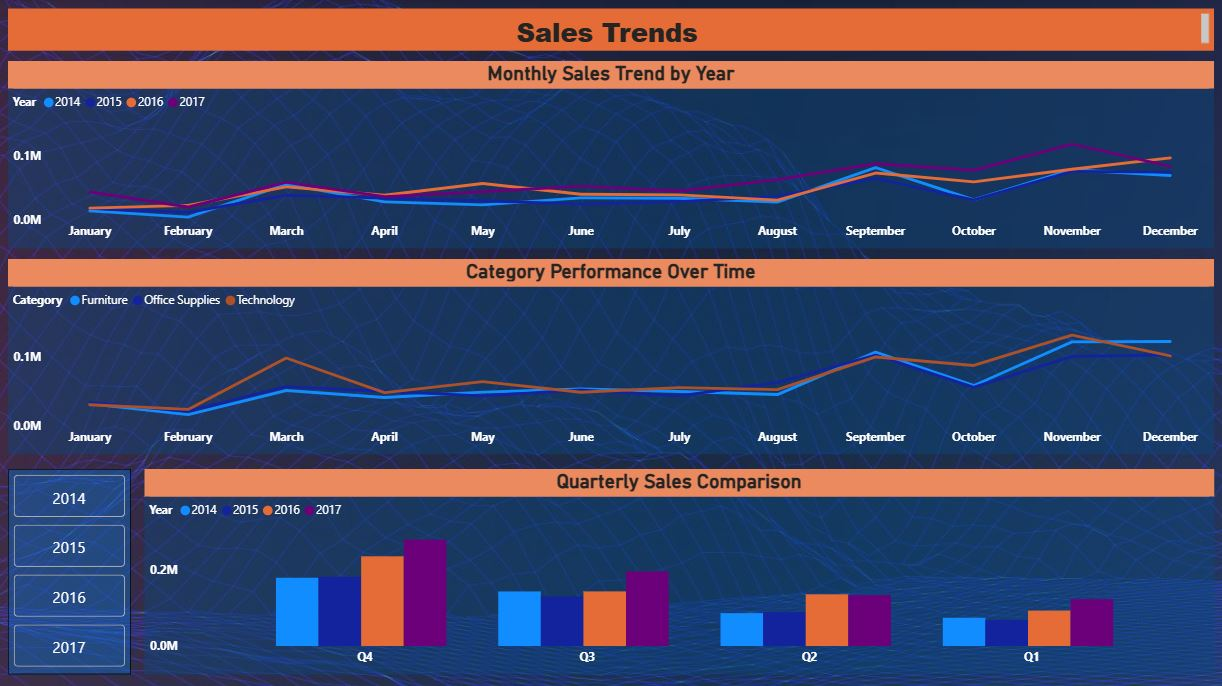

The dashboard page shown, as its layout file describes it:
{"tool":"powerbi","page":{"name":"Sales Trends","canvas":[1280,720],"ordinal":1},"visuals":[{"type":"lineChart","title":"Monthly Sales Trend by Year","fields":{"Category":["DateTable.Month Full"],"Y":["superstore_cleaned.Total Sales"],"Series":["DateTable.Year"]},"box":[12.5,65.6,1256.6,195.4],"z":0},{"type":"advancedSlicerVisual","fields":{"Values":["DateTable.Year"]},"box":[12.5,490.8,128.2,214.1],"z":1000},{"type":"clusteredColumnChart","title":"Quarterly Sales Comparison","fields":{"Category":["DateTable.Quarter"],"Y":["Sum(superstore_cleaned.Sales)"],"Series":["DateTable.Year"]},"box":[154.7,490.8,1114.4,214.1],"z":2000},{"type":"lineChart","title":"Category Performance Over Time","fields":{"Category":["DateTable.Month Full"],"Y":["Sum(superstore_cleaned.Sales)"],"Series":["superstore_cleaned.Category"]},"box":[12.5,272,1256.6,203.2],"z":3000},{"type":"textbox","box":[12.5,10.9,1256.6,43.8],"z":3001}]}

Visuals, with their boxes in screenshot pixels (x1, y1, x2, y2), scaled from the page's 1280x720 canvas onto the 1222x686 screenshot:
"Monthly Sales Trend by Year" lineChart: {"x1": 12, "y1": 63, "x2": 1212, "y2": 249}
advancedSlicerVisual - DateTable.Year: {"x1": 12, "y1": 468, "x2": 134, "y2": 672}
"Quarterly Sales Comparison" clusteredColumnChart: {"x1": 148, "y1": 468, "x2": 1212, "y2": 672}
"Category Performance Over Time" lineChart: {"x1": 12, "y1": 259, "x2": 1212, "y2": 453}
textbox: {"x1": 12, "y1": 10, "x2": 1212, "y2": 52}
